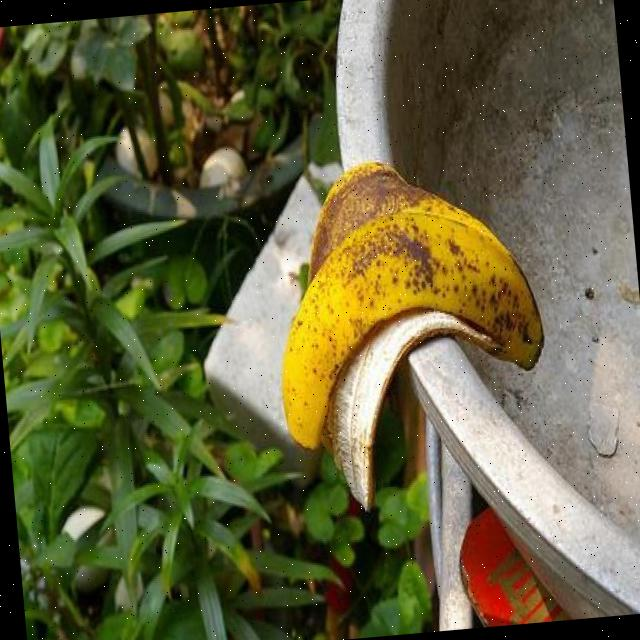banana-peel: (260, 145, 558, 518)
